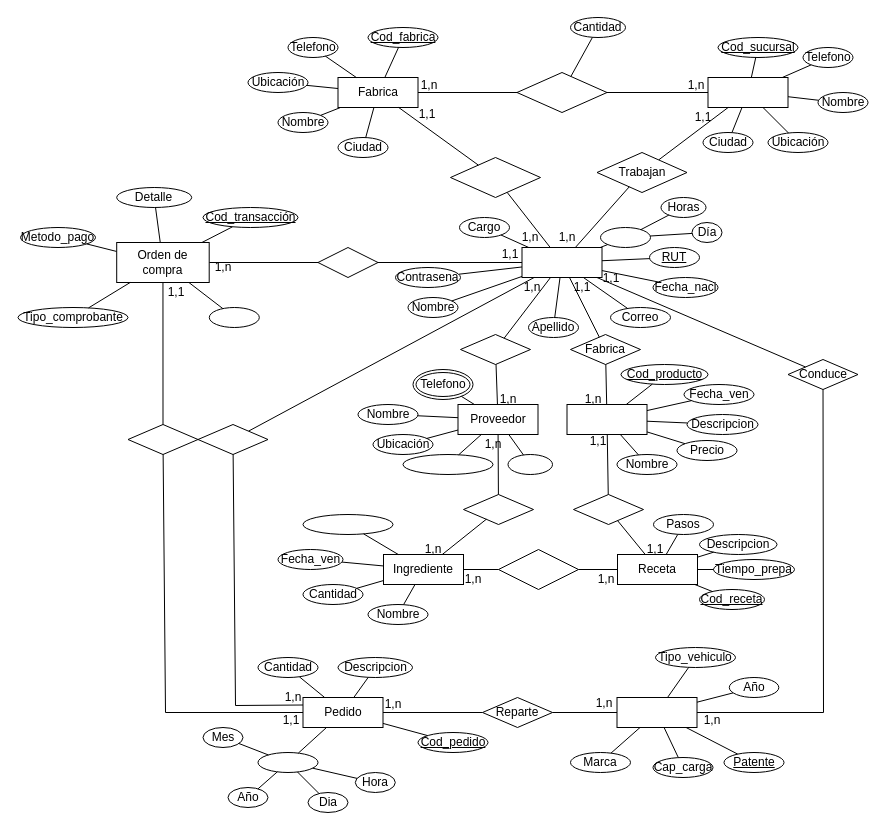
The diagram is 885 pixels wide and 830 high, and some of its shapes have lost their labels. The centre of each missing label's shape, as x and y in pixels:
Abastece: [561,92]
Cod_ingrediente: [347,524]
Cod_proveedor: [447,464]
Contiene: [608,509]
Email: [529,464]
Empleados: [561,262]
Encargan: [495,349]
Fecha: [287,762]
Genera: [162,439]
Jornada: [625,237]
Monto: [233,317]
Paga: [347,262]
Pertenecen: [495,177]
Producto: [606,419]
Provee: [498,509]
Realizan: [232,439]
Se compone: [538,569]
Sucursal: [747,92]
Vehiculo: [656,712]
